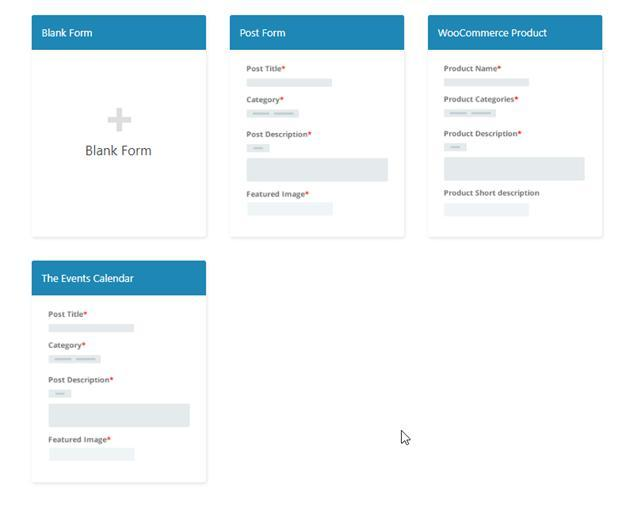icon: (108, 108, 133, 133)
input: (246, 158, 388, 183), (446, 159, 585, 182), (49, 406, 192, 427), (444, 203, 531, 217), (49, 448, 135, 462), (249, 203, 334, 216), (443, 80, 530, 88), (48, 325, 135, 333), (247, 81, 334, 88)
label: (436, 26, 551, 43), (42, 273, 140, 287), (85, 143, 155, 162), (443, 188, 546, 199), (441, 128, 525, 141), (442, 94, 521, 106), (41, 26, 97, 41), (247, 190, 314, 201), (47, 436, 115, 446), (242, 64, 294, 77), (246, 130, 313, 140), (237, 29, 292, 41), (47, 376, 116, 385), (443, 64, 503, 73), (245, 97, 290, 107), (47, 310, 92, 320), (49, 341, 87, 352)
